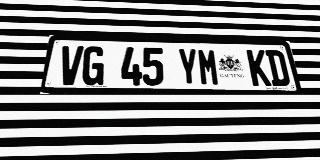4: (121, 47, 142, 85)
5: (143, 47, 164, 86)
D: (265, 50, 291, 86)
G: (81, 46, 105, 85)
K: (246, 50, 272, 86)
M: (197, 49, 220, 86)
V: (57, 46, 84, 85)
Y: (177, 48, 199, 86)
